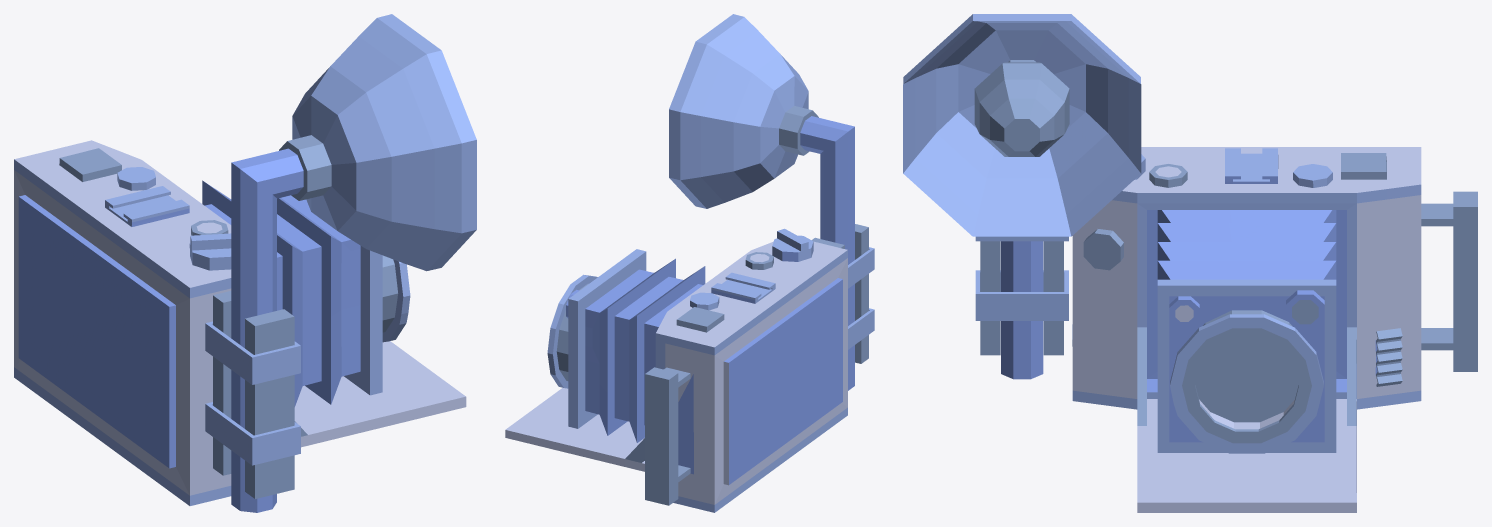
Rendered from CameraBlue.fbx.
3 views of the same model, side by side, from view 1: azimuth 30°, elevation 25°; view 2: azimuth 150°, elevation 25°; view 3: azimuth 270°, elevation 25° (orthographic). The views are drawn at different scales.
Visible parts, largest first — view 1: Camera.001, Flash; view 2: Camera.001, Flash, Camera; view 3: Camera.001, Flash, Camera.
Part boxes in pixels (box(x1,y1,x2,y2)): Camera.001: box(14, 140, 466, 505); Flash: box(205, 14, 476, 512); Camera.001: box(505, 228, 847, 512); Flash: box(669, 14, 874, 390); Camera: box(645, 367, 690, 505); Camera.001: box(1072, 147, 1421, 512); Flash: box(903, 14, 1141, 379); Camera: box(1421, 191, 1477, 371).
Size of the model in its own units: 501 by 672 by 796.
